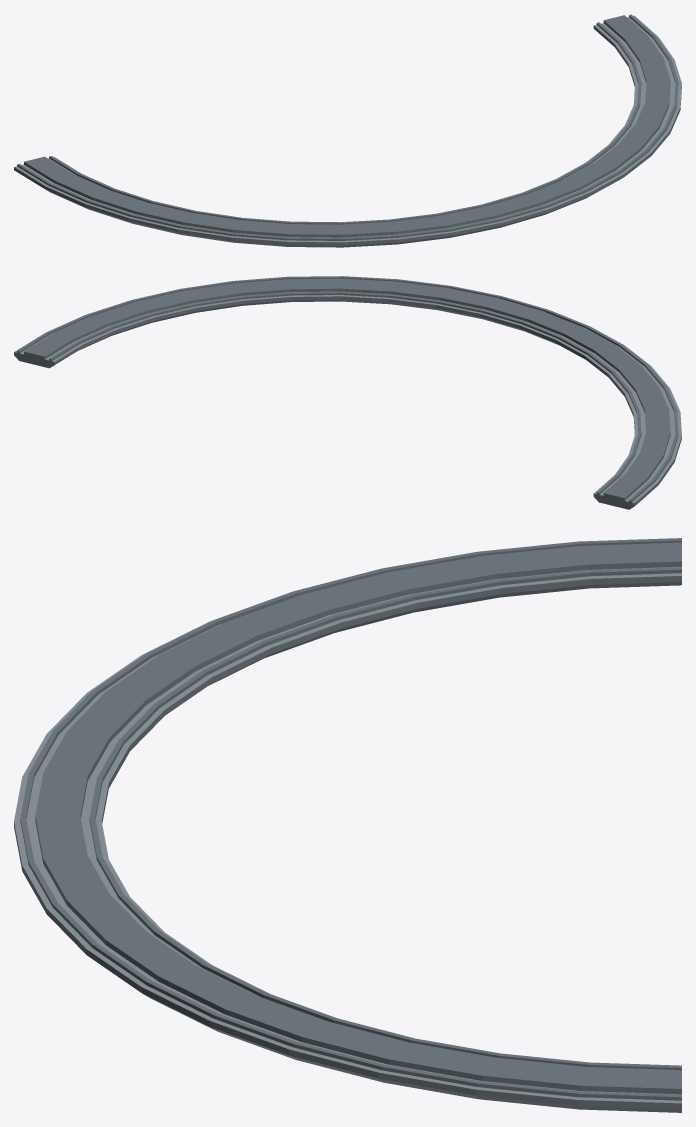
The model's file is SM_monorail_tracks_02.glb.
3 renders of one model, top to bottom at view 1: azimuth 30°, elevation 25°; view 2: azimuth 150°, elevation 25°; view 3: azimuth 270°, elevation 25°, orthographic. The views are drawn at different scales.
Parts seen in each view (by area): view 1: SM_monorail_tracks_02; view 2: SM_monorail_tracks_02; view 3: SM_monorail_tracks_02.
Part boxes in pixels (left/top/right/bottom): SM_monorail_tracks_02: left=14, top=14, right=681, bottom=247; SM_monorail_tracks_02: left=14, top=276, right=681, bottom=509; SM_monorail_tracks_02: left=14, top=538, right=681, bottom=1112.
Bounding box in the file's own units: 20 × 0.3243 × 10.
1 material, 1 textured.
